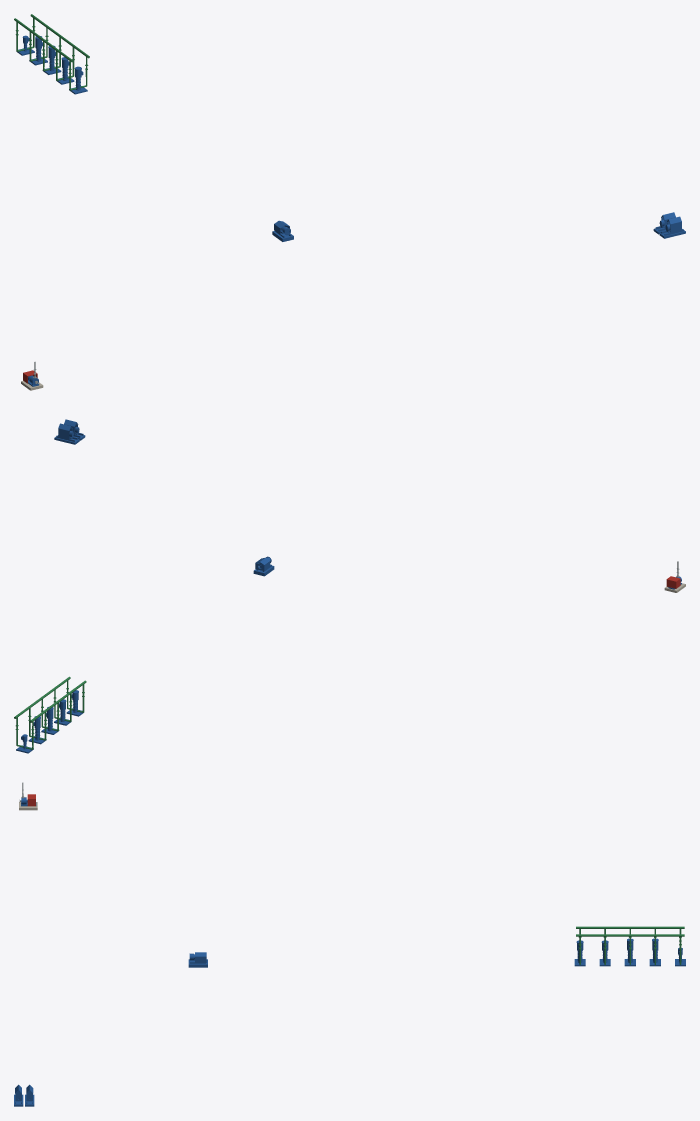
Rendered from bombas-campo.glb.
3 renders of one model, top to bottom at view 1: azimuth 30°, elevation 25°; view 2: azimuth 150°, elevation 25°; view 3: azimuth 270°, elevation 25°, orthographic. The views are drawn at different scales.
Visible parts, largest first — view 1: no part large enough to name; view 2: no part large enough to name; view 3: Bomba · Colectores verdes de bombas verticales.
Boxes of the visible parts, x1,y1,x2,y2 form: Bomba · Colectores verdes de bombas verticales: [576, 926, 684, 936].
Size of the model in its own units: 51.35 by 2.59 by 48.23.
